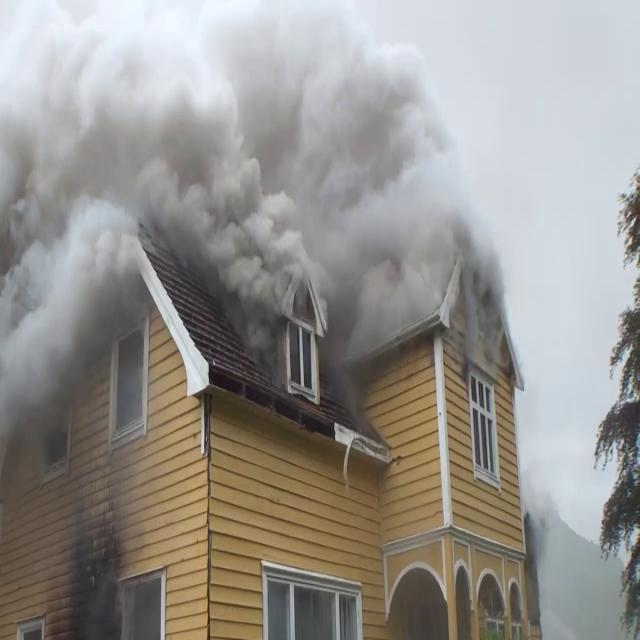Smoke: (0, 1, 516, 387), (0, 3, 136, 521)
